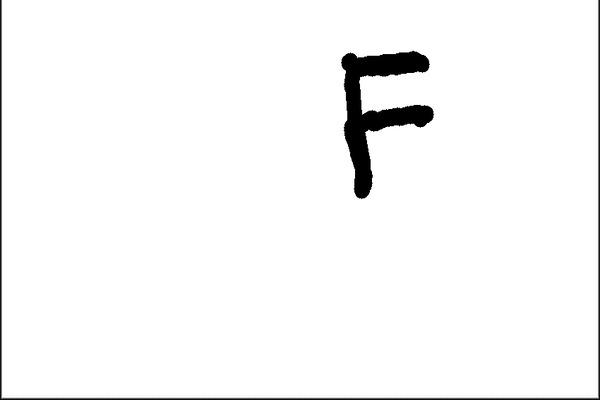F: (334, 46, 436, 200)
